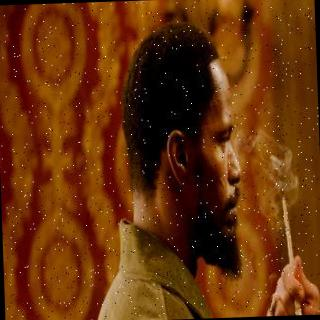smoke: (260, 126, 306, 214)
